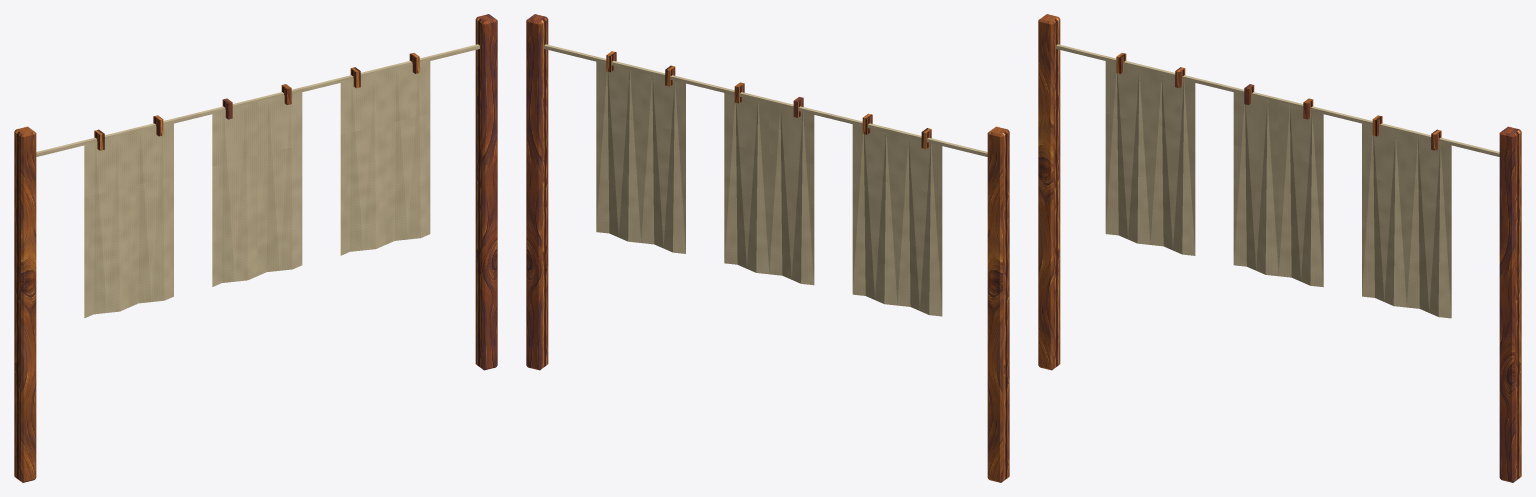
Rendered from Clothesline.fbx.
3 views of the same model, side by side, from view 1: azimuth 30°, elevation 25°; view 2: azimuth 150°, elevation 25°; view 3: azimuth 330°, elevation 25° (orthographic).
Parts seen in each view (by area): view 1: Folded hanging linen.002, Folded hanging linen.001, Folded hanging linen, Clothesline pole, Clothesline pole.001, Washing line; view 2: Folded hanging linen, Folded hanging linen.001, Folded hanging linen.002, Clothesline pole, Clothesline pole.001, Washing line; view 3: Folded hanging linen, Folded hanging linen.001, Folded hanging linen.002, Clothesline pole.001, Clothesline pole, Washing line.
Boxes of the visible parts, <box> form: Folded hanging linen.002: <box>340,60,430,255</box>; Folded hanging linen.001: <box>212,91,302,286</box>; Folded hanging linen: <box>84,122,173,318</box>; Clothesline pole: <box>14,126,36,482</box>; Clothesline pole.001: <box>475,14,497,370</box>; Washing line: <box>36,44,479,156</box>; Folded hanging linen: <box>852,124,942,316</box>; Folded hanging linen.001: <box>724,93,814,285</box>; Folded hanging linen.002: <box>596,61,685,253</box>; Clothesline pole: <box>987,126,1009,482</box>; Clothesline pole.001: <box>526,14,548,370</box>; Washing line: <box>544,44,987,156</box>; Folded hanging linen: <box>1105,60,1195,255</box>; Folded hanging linen.001: <box>1233,91,1323,287</box>; Folded hanging linen.002: <box>1362,122,1451,318</box>; Clothesline pole.001: <box>1499,126,1521,482</box>; Clothesline pole: <box>1038,14,1060,370</box>; Washing line: <box>1056,44,1499,156</box>.
Bounding box in the file's own units: 372 × 260 × 12.
